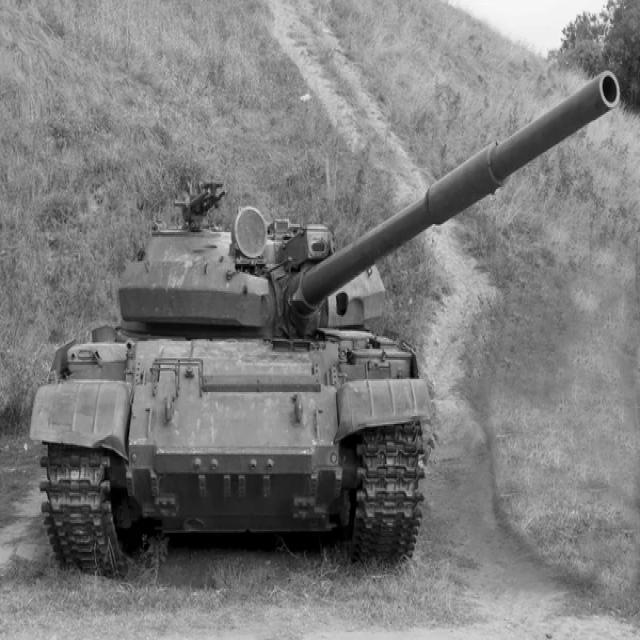Tank: (34, 67, 627, 575)
